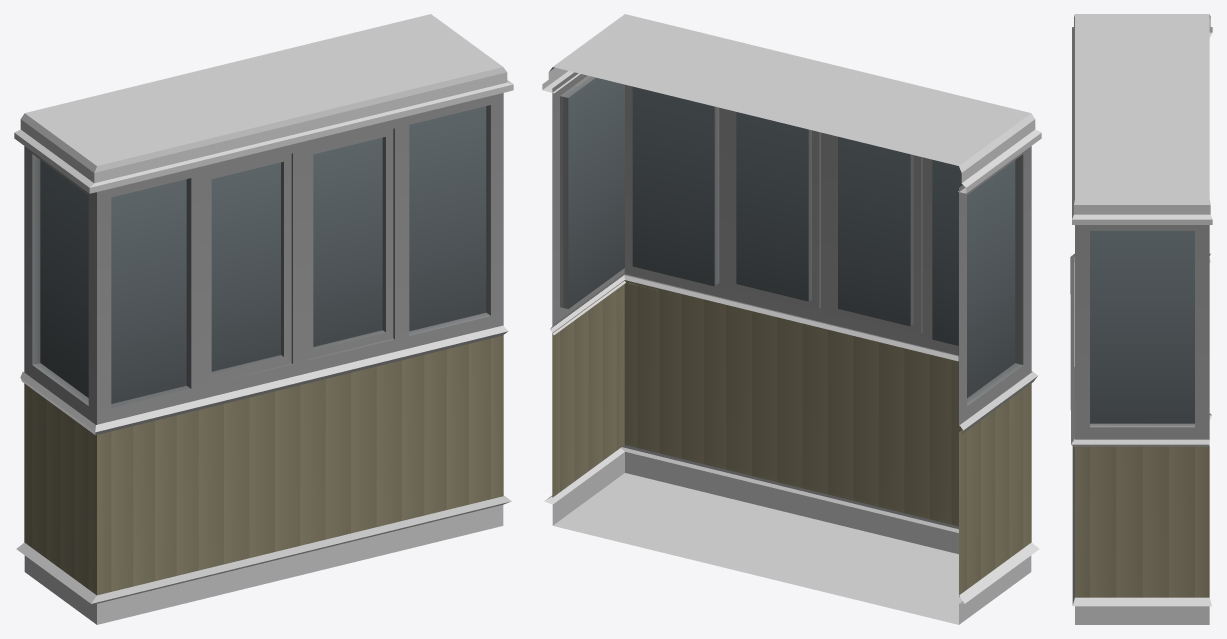
File: ClosedBalcon5.fbx
The picture shows the model from 3 angles, left to right: view 1: azimuth 30°, elevation 25°; view 2: azimuth 150°, elevation 25°; view 3: azimuth 270°, elevation 25°; orthographic projection. The views are drawn at different scales.
Visible parts, largest first — view 1: Cube.089; view 2: Cube.089; view 3: Cube.089.
Part boxes in pixels (bbox=[...]): Cube.089: bbox=[14, 14, 513, 624]; Cube.089: bbox=[542, 14, 1041, 624]; Cube.089: bbox=[1070, 14, 1212, 624].
Size of the model in its own units: 7.03 by 2.2 by 7.27.
